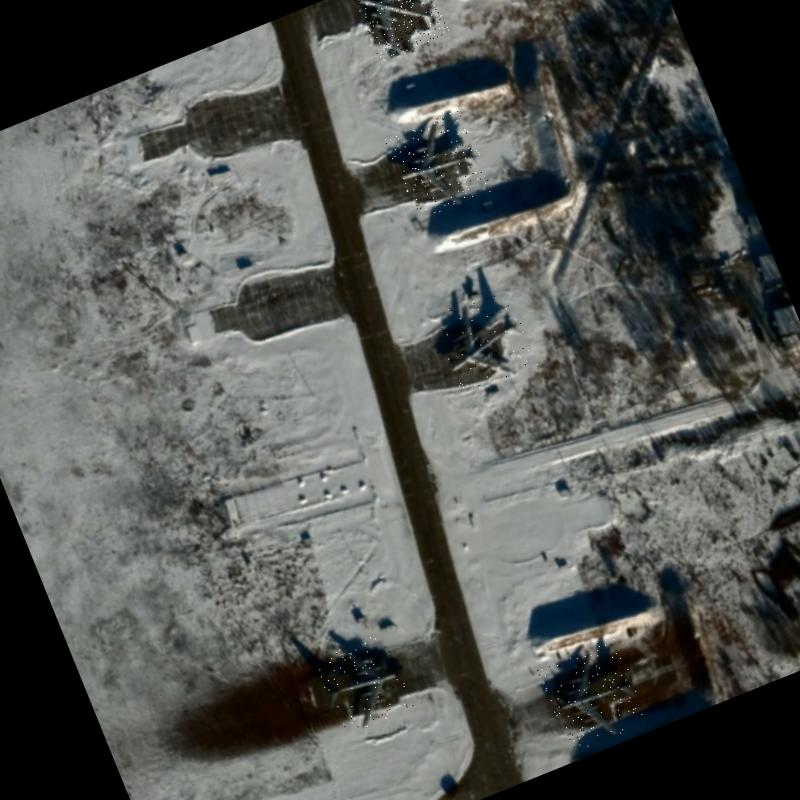A17: (536, 638, 649, 752), (384, 108, 494, 222), (428, 285, 538, 396), (312, 631, 414, 736), (353, 0, 450, 62)
